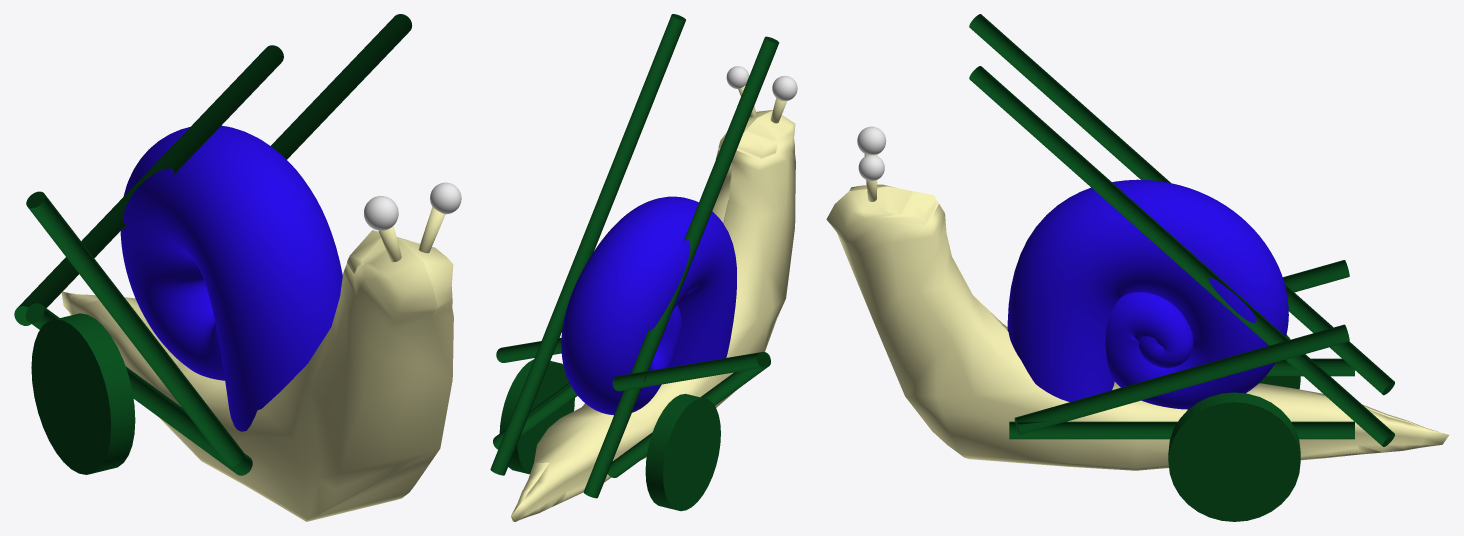
Rendered from lance-missile-snail.fbx.
The picture shows the model from 3 angles, left to right: view 1: azimuth 30°, elevation 25°; view 2: azimuth 150°, elevation 25°; view 3: azimuth 270°, elevation 25°; orthographic projection. The views are drawn at different scales.
Parts seen in each view (by area): view 1: Escargot2, echaffaud; view 2: Escargot2, echaffaud; view 3: Escargot2, echaffaud.
Boxes of the visible parts, bbox=[...] form: Escargot2: bbox=[61, 125, 461, 521]; echaffaud: bbox=[14, 14, 412, 475]; Escargot2: bbox=[511, 66, 797, 521]; echaffaud: bbox=[490, 14, 779, 511]; Escargot2: bbox=[826, 126, 1449, 470]; echaffaud: bbox=[969, 14, 1394, 521].
Bounding box in the file's own units: 26.54 × 59.03 × 76.74.
